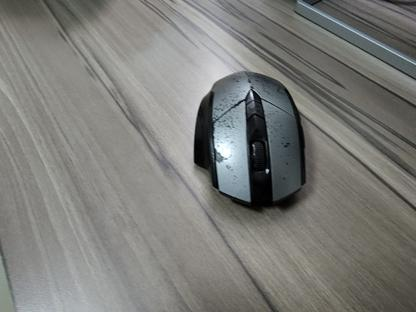mouse: (193, 70, 307, 206)
